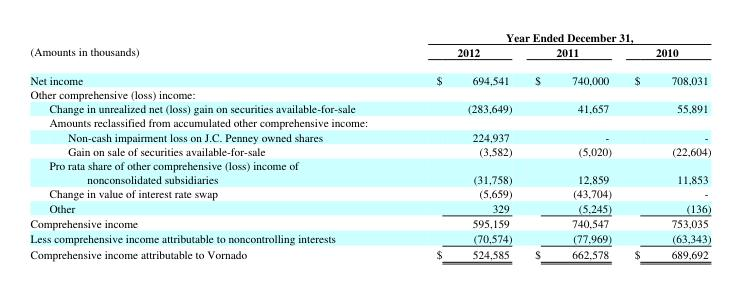table: (29, 28, 710, 261)
table column: (29, 28, 395, 261), (395, 28, 522, 261), (522, 28, 622, 261), (622, 28, 710, 261)
table column header: (29, 28, 710, 65)
table projected row header: (29, 114, 710, 129), (29, 86, 710, 100), (29, 157, 710, 171)
table row: (29, 44, 710, 65), (29, 65, 710, 86), (29, 28, 710, 44), (29, 214, 710, 230), (29, 245, 710, 261), (29, 114, 710, 129), (29, 185, 710, 200), (29, 230, 710, 245), (29, 86, 710, 100), (29, 100, 710, 114), (29, 129, 710, 143), (29, 143, 710, 157), (29, 157, 710, 171), (29, 171, 710, 185), (29, 200, 710, 214)
table spanning cell: (29, 28, 395, 65), (395, 28, 710, 44)
